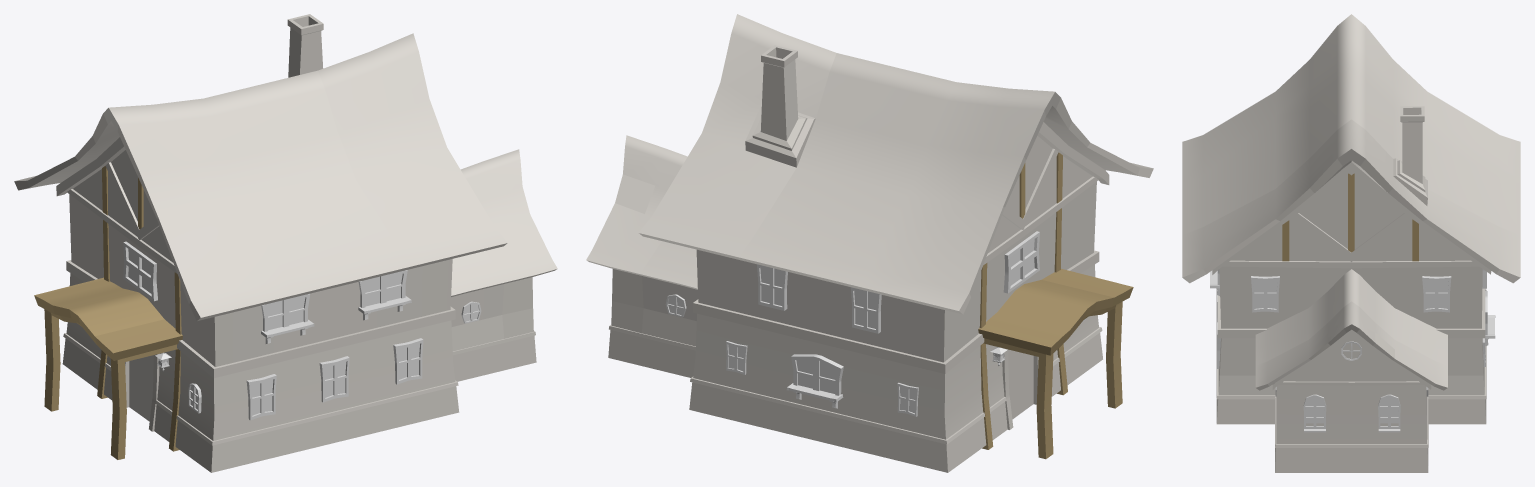
The model's file is House 3.fbx.
3 views of the same model, side by side, from view 1: azimuth 30°, elevation 25°; view 2: azimuth 150°, elevation 25°; view 3: azimuth 270°, elevation 25° (orthographic). The views are drawn at different scales.
Visible parts, largest first — view 1: polySurface33, polySurface41, polySurface51, polySurface50; view 2: polySurface33, polySurface41, polySurface51, polySurface50; view 3: polySurface33, polySurface41, polySurface50, polySurface48, polySurface51.
Boxes of the visible parts, box(x1,y1,x2,y2) form: polySurface33: box(14, 14, 507, 472); polySurface41: box(450, 149, 557, 381); polySurface51: box(34, 166, 182, 459); polySurface50: box(123, 241, 423, 420); polySurface33: box(639, 14, 1153, 472); polySurface41: box(586, 135, 698, 377); polySurface51: box(978, 152, 1133, 459); polySurface50: box(726, 231, 1039, 416); polySurface33: box(1182, 14, 1520, 424); polySurface41: box(1255, 269, 1447, 472); polySurface50: box(1210, 269, 1495, 368); polySurface48: box(1275, 341, 1428, 432); polySurface51: box(1282, 173, 1418, 261).
Bounding box in the file's own units: 1004 × 705 × 729.
